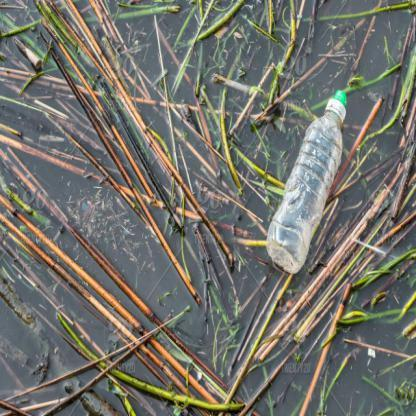Plastic: (261, 91, 352, 276)
